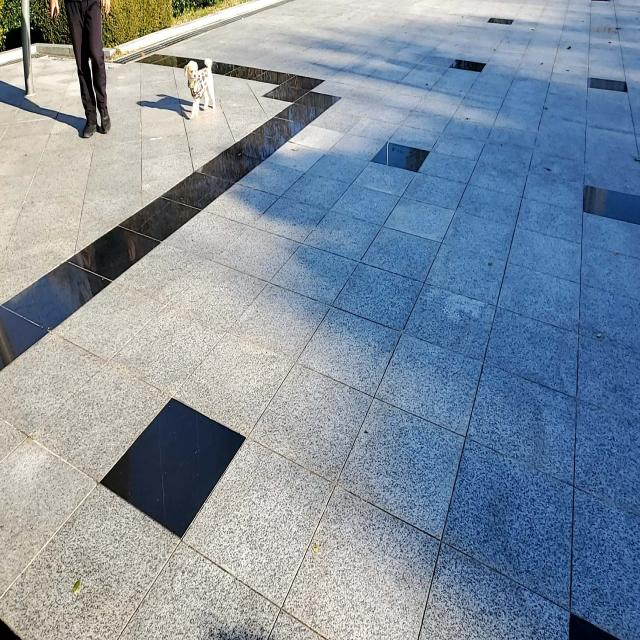Unleashed_Dog: (65, 0, 216, 120)
